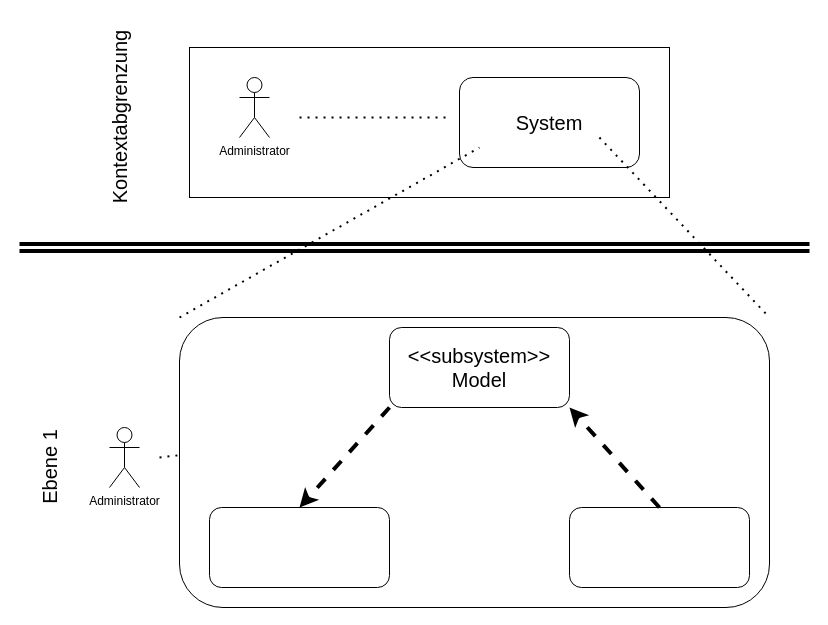
The diagram is 828 pixels wide and 625 high, and some of its shapes have lost their labels. Each missing label, with the box of its shape:
<<subsystem>> Controller: (568, 506, 750, 588)
<<subsystem>> View: (208, 506, 390, 588)
